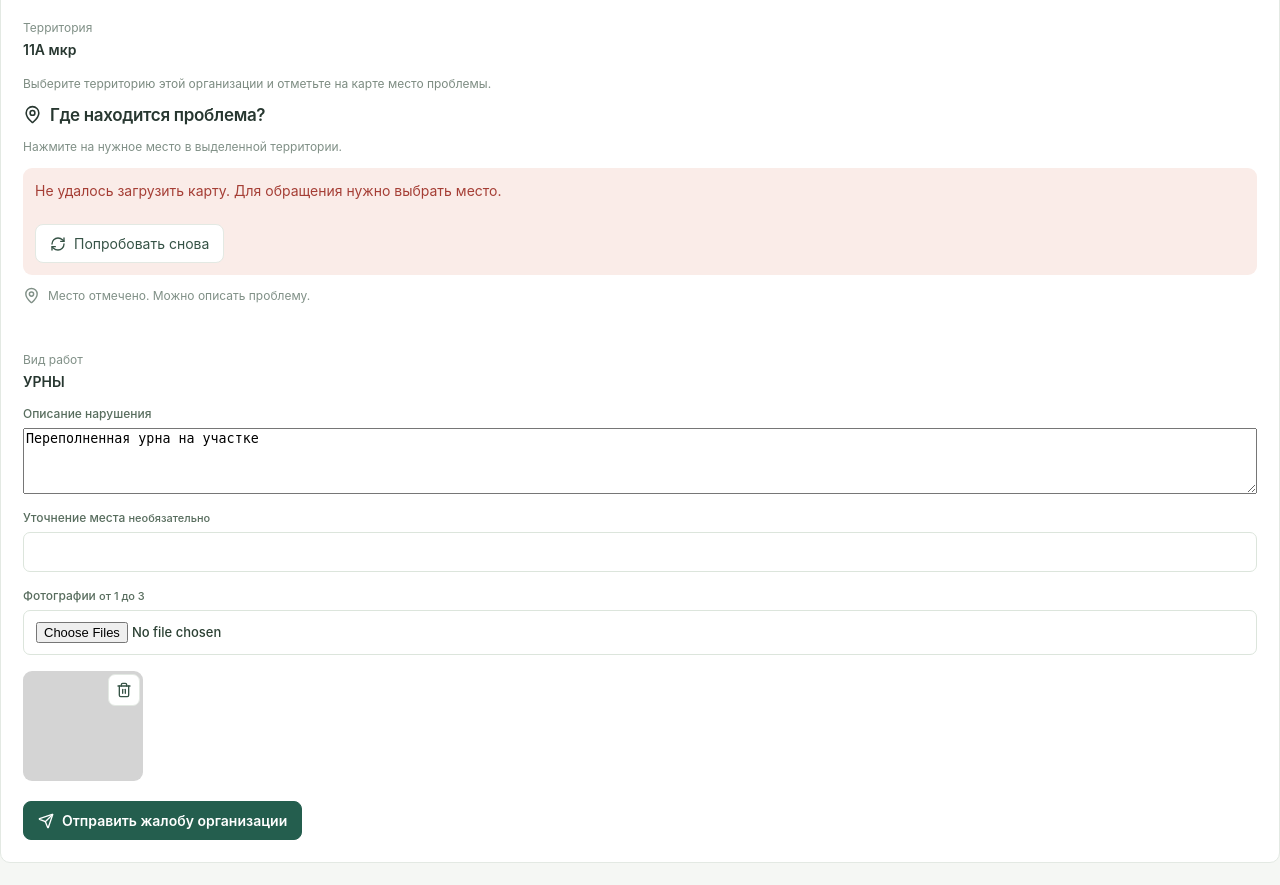
freezes an uncertain send and checks its original client UUID without uploading a duplicate
(page scrolled)
Click the button "Отправить жалобу организации": point(163, 821) [23,801,302,840]
(page scrolled)
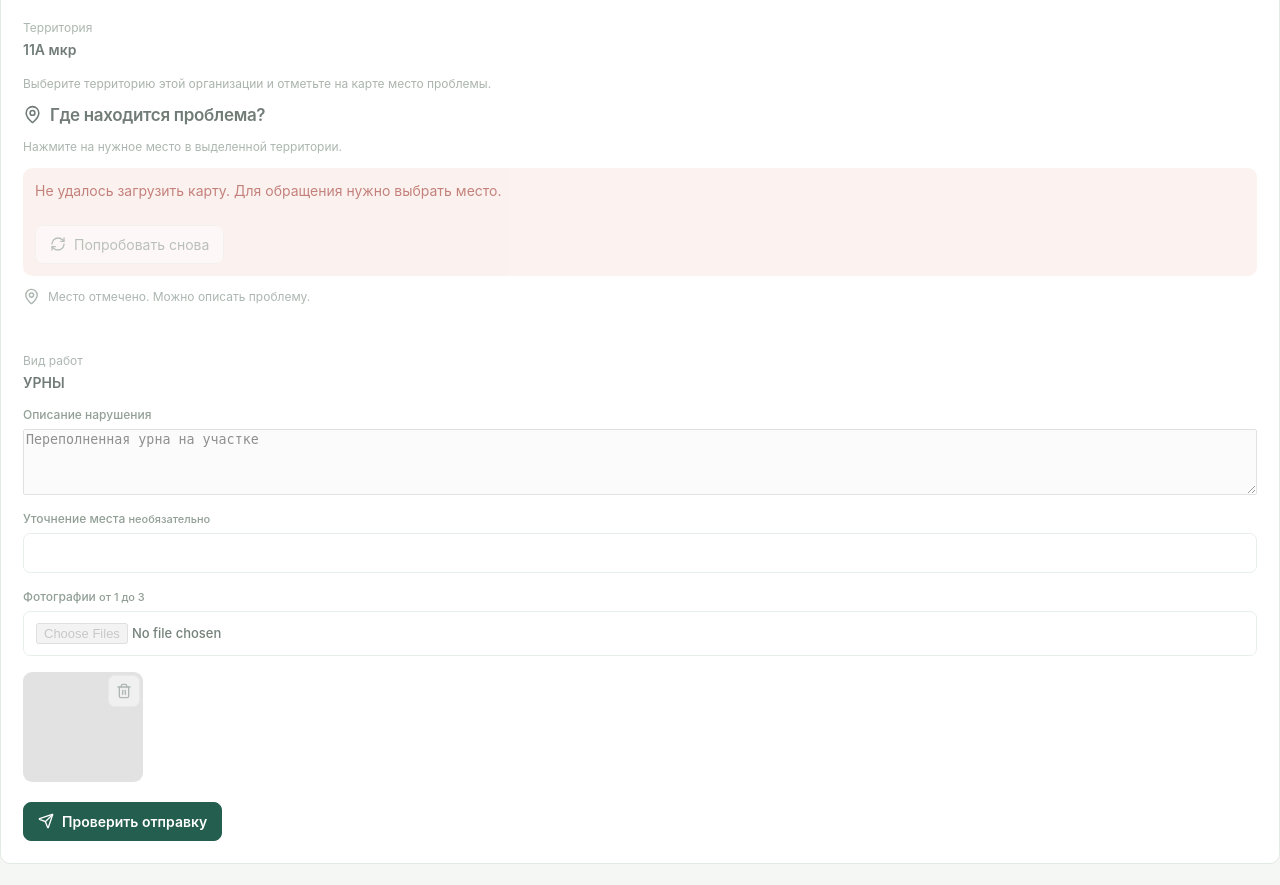
Expected: the button "Проверить отправку" is shown
Click the button "Проверить отправку": point(123, 821) [23,802,222,840]
(page scrolled)
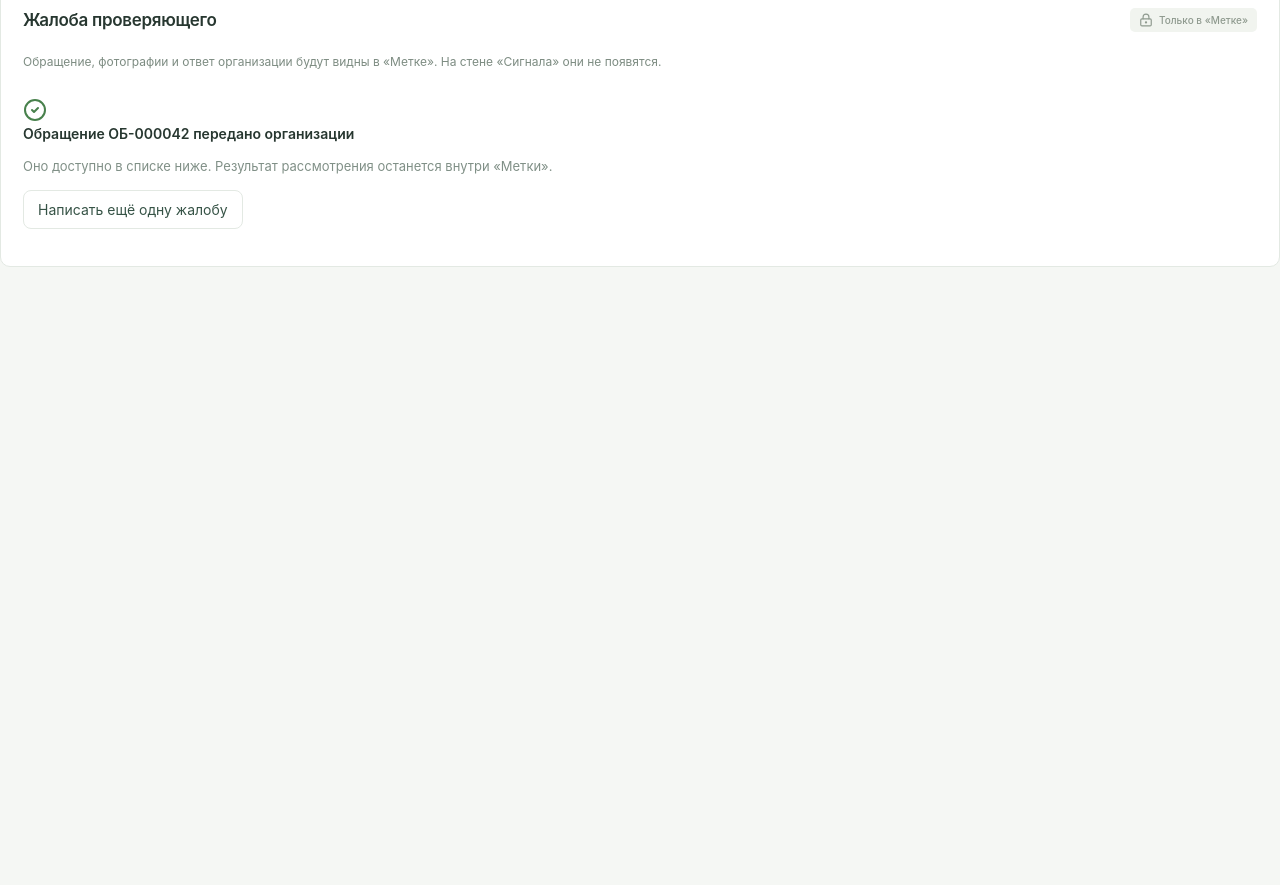
Expected: the text "ОБ-000042" is shown, [108,125,190,142]
